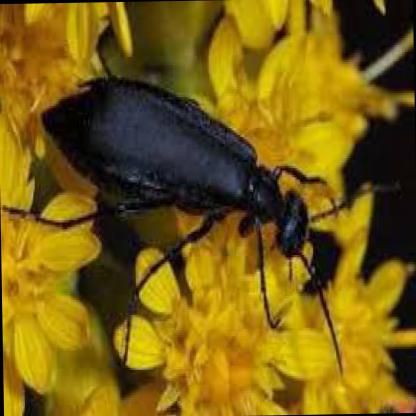blister beetle: (38, 75, 390, 374)
